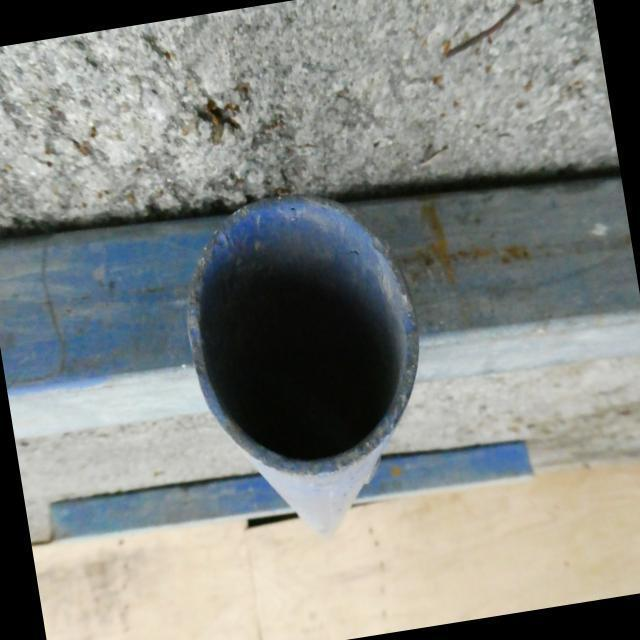pipe: (188, 193, 421, 474)
